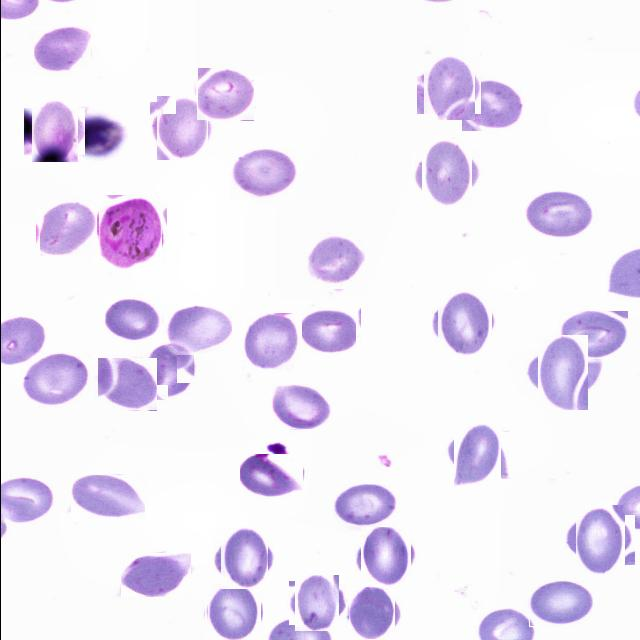difficult: (94, 197, 164, 266)
red blood cell: (530, 341, 594, 405), (20, 351, 89, 406), (433, 292, 494, 353), (524, 190, 595, 242), (228, 148, 296, 201), (416, 144, 476, 204), (569, 510, 629, 570), (242, 313, 302, 372), (556, 311, 627, 360), (165, 304, 231, 356), (34, 202, 96, 257), (152, 99, 210, 157), (304, 232, 362, 290), (419, 59, 477, 117), (329, 484, 398, 532), (70, 475, 144, 519), (138, 342, 193, 400), (96, 358, 156, 411), (461, 79, 522, 131), (204, 585, 261, 640), (295, 308, 360, 356), (449, 428, 505, 483), (120, 553, 190, 597), (528, 579, 592, 627), (216, 530, 270, 586), (196, 68, 253, 121), (268, 382, 332, 429), (358, 530, 413, 584), (26, 104, 80, 158), (32, 26, 90, 74), (239, 454, 302, 498), (104, 295, 161, 340), (346, 588, 397, 638), (292, 578, 342, 628)
